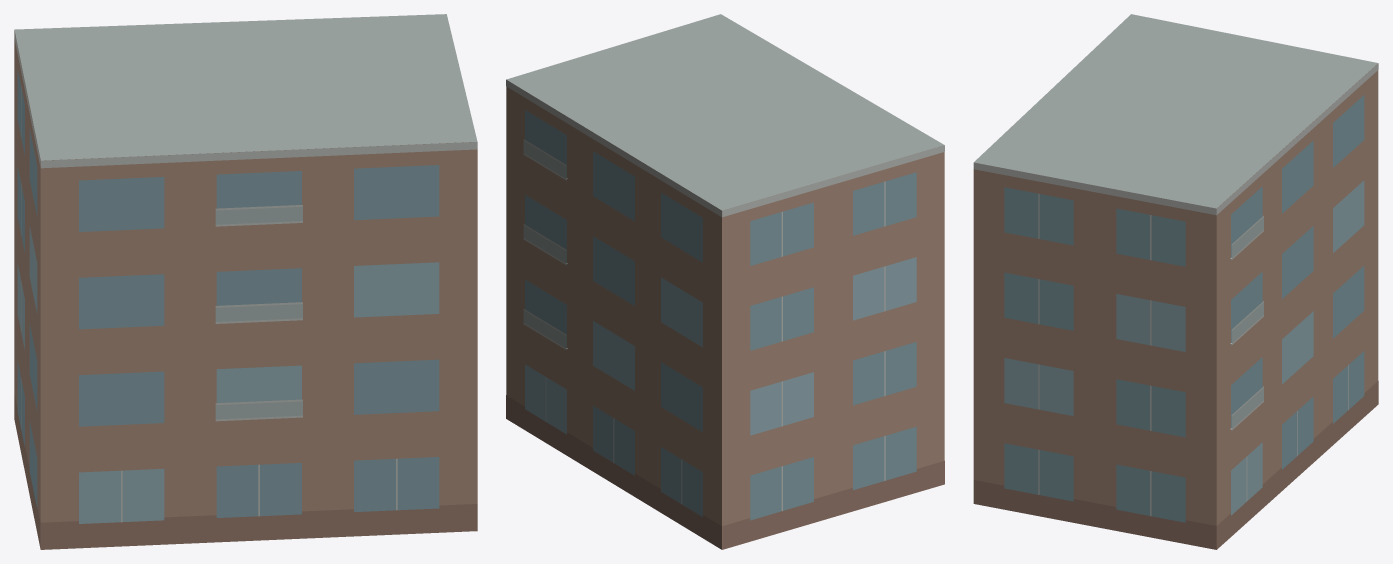
Rendered from survey-upis-32551094.glb.
3 views of the same model, side by side, from view 1: azimuth 30°, elevation 25°; view 2: azimuth 150°, elevation 25°; view 3: azimuth 270°, elevation 25° (orthographic). The views are drawn at different scales.
Parts seen in each view (by area): view 1: survey-upis-32551094.tmp; view 2: survey-upis-32551094.tmp; view 3: survey-upis-32551094.tmp.
Boxes of the visible parts, left/top/right/bottom form: survey-upis-32551094.tmp: left=14, top=14, right=477, bottom=549; survey-upis-32551094.tmp: left=506, top=14, right=944, bottom=549; survey-upis-32551094.tmp: left=973, top=14, right=1378, bottom=549.
Bounding box in the file's own units: 15.11 × 12.35 × 13.29.
